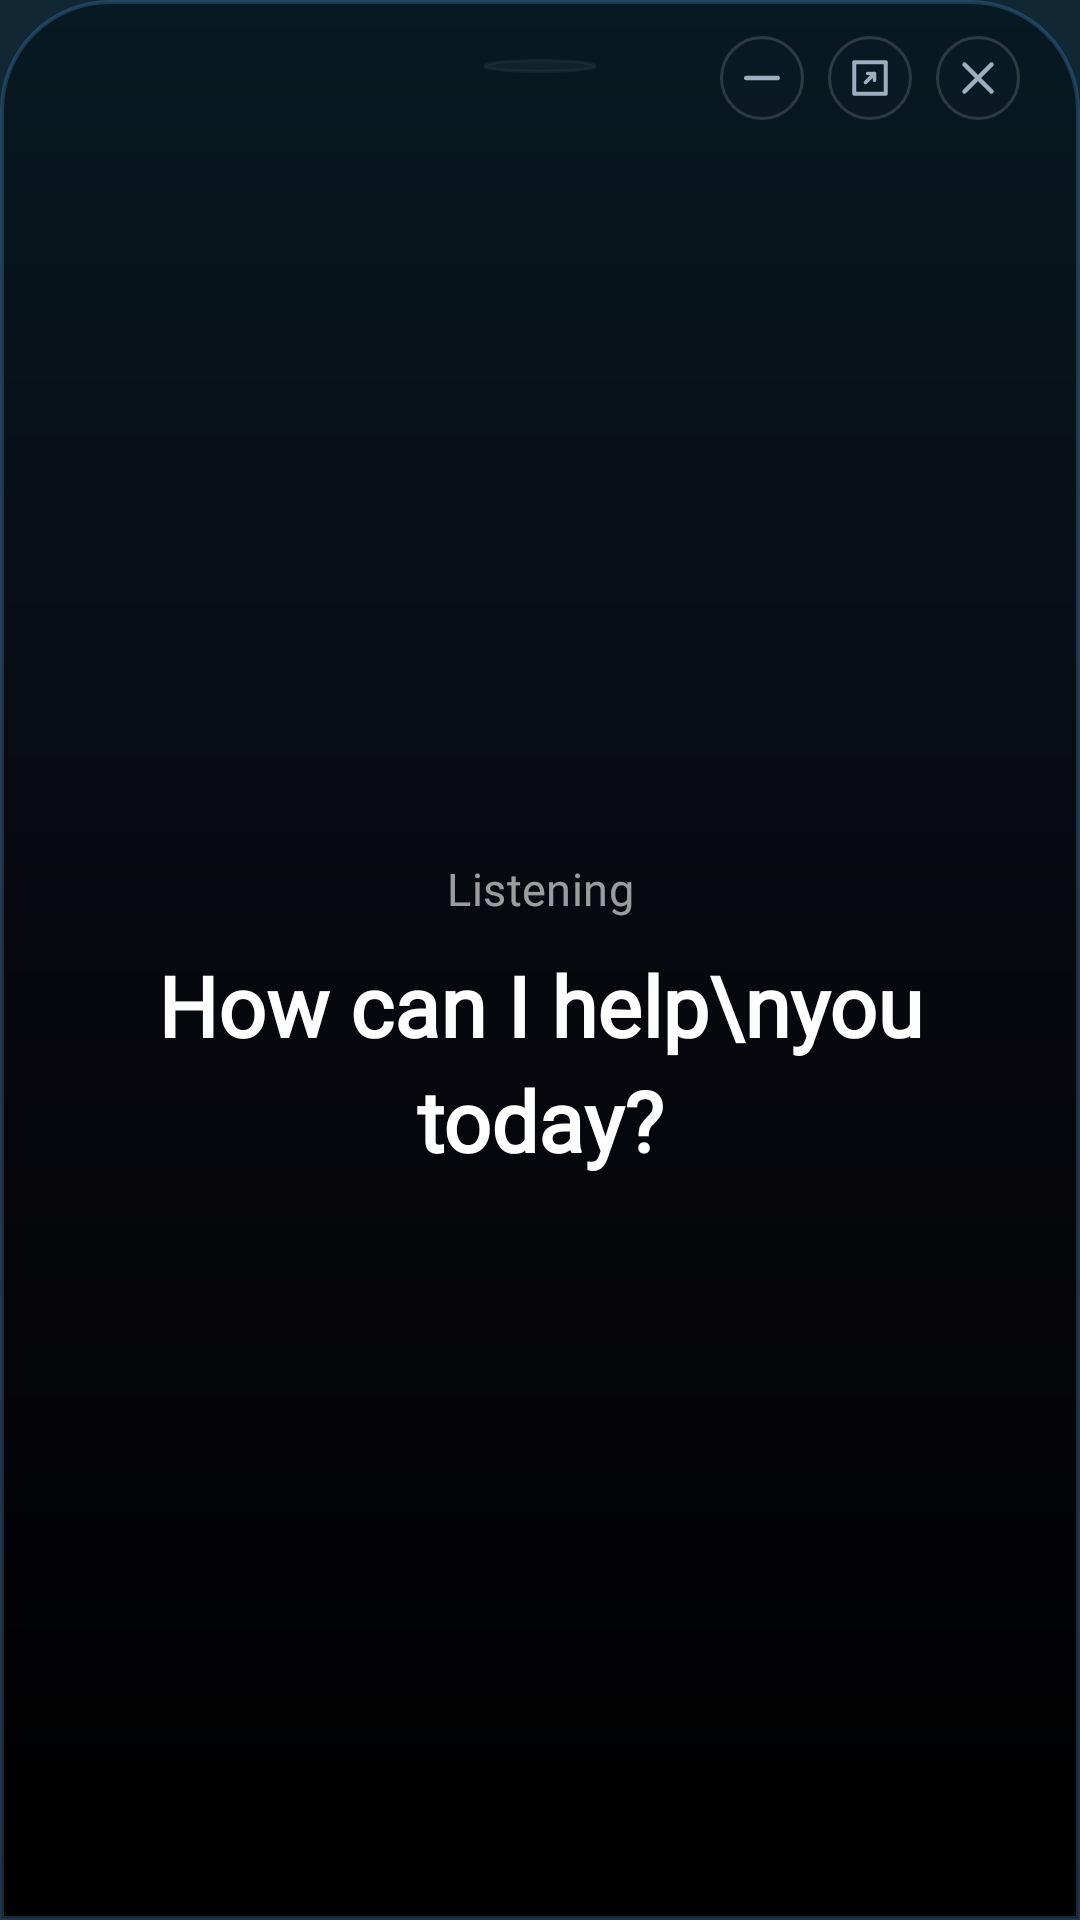

Screen size 1080×1920. Icon name, then its center in pixels as [x,y]:
Close: [978,78]
Minimize: [762,78]
Open Session in App: [870,78]
